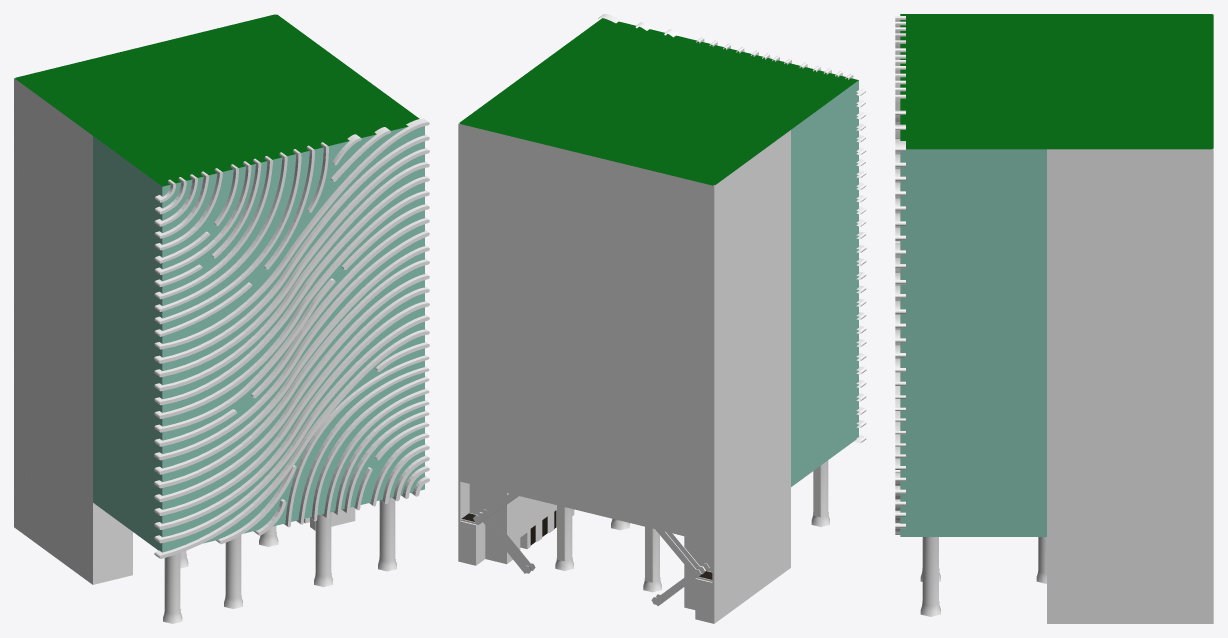
File: Henry Sy Sr Hall.fbx
3 views of the same model, side by side, from view 1: azimuth 30°, elevation 25°; view 2: azimuth 150°, elevation 25°; view 3: azimuth 270°, elevation 25° (orthographic). The views are drawn at different scales.
Visible parts, largest first — view 1: Henry Sy Sr. Hall, Shape22; view 2: Henry Sy Sr. Hall, Shape22; view 3: Henry Sy Sr. Hall, Shape22.
Boxes of the visible parts, left/top/right/bottom form: Henry Sy Sr. Hall: left=14, top=14, right=424, bottom=623; Shape22: left=154, top=118, right=429, bottom=558; Henry Sy Sr. Hall: left=458, top=18, right=858, bottom=623; Shape22: left=598, top=14, right=866, bottom=443; Henry Sy Sr. Hall: left=900, top=14, right=1213, bottom=623; Shape22: left=895, top=16, right=905, bottom=534.
Bounding box in the file's own units: 145 × 232 × 140.
